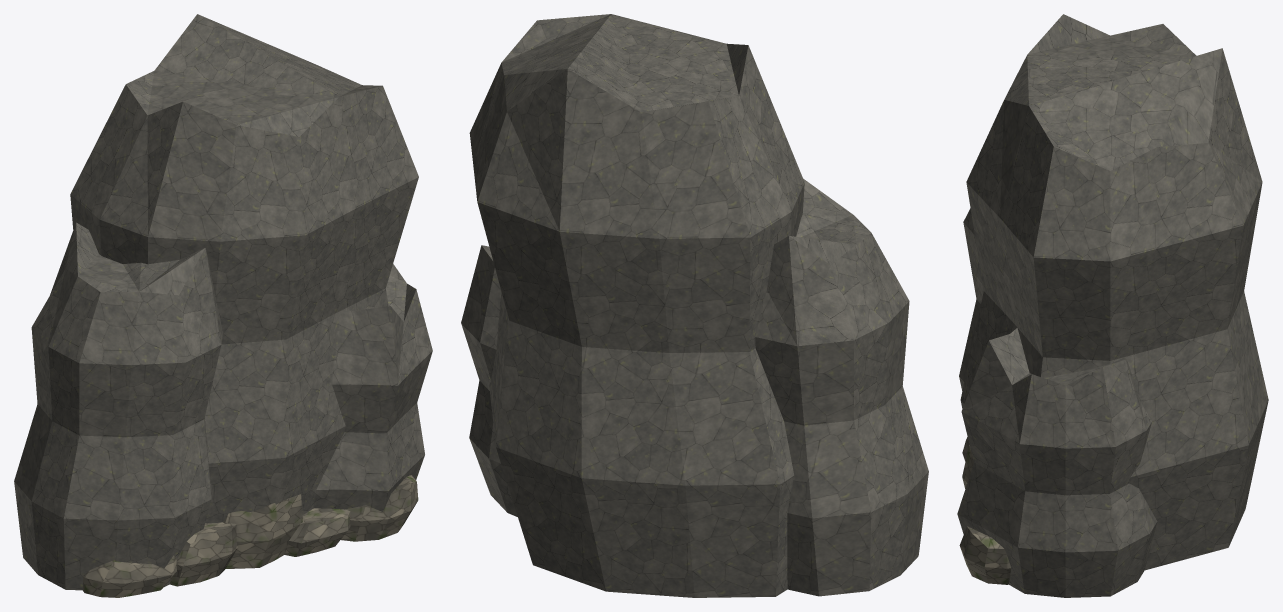
File: Cliff_B.fbx
3 views of the same model, side by side, from view 1: azimuth 30°, elevation 25°; view 2: azimuth 150°, elevation 25°; view 3: azimuth 270°, elevation 25° (orthographic). The views are drawn at different scales.
Parts seen in each view (by area): view 1: Cliff_B; view 2: Cliff_B; view 3: Cliff_B.
Part boxes in pixels (x1,y1,x2,y2): Cliff_B: [14, 14, 432, 597]; Cliff_B: [461, 14, 928, 597]; Cliff_B: [957, 14, 1268, 597].
Size of the model in its own units: 9.39 by 10.54 by 6.14.
